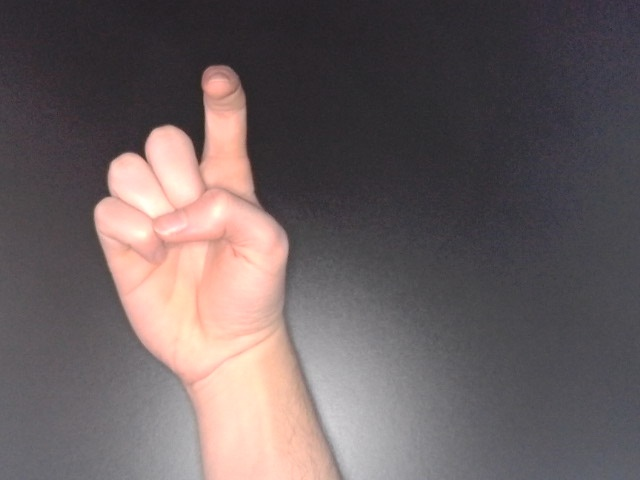x: (88, 58, 295, 391)
